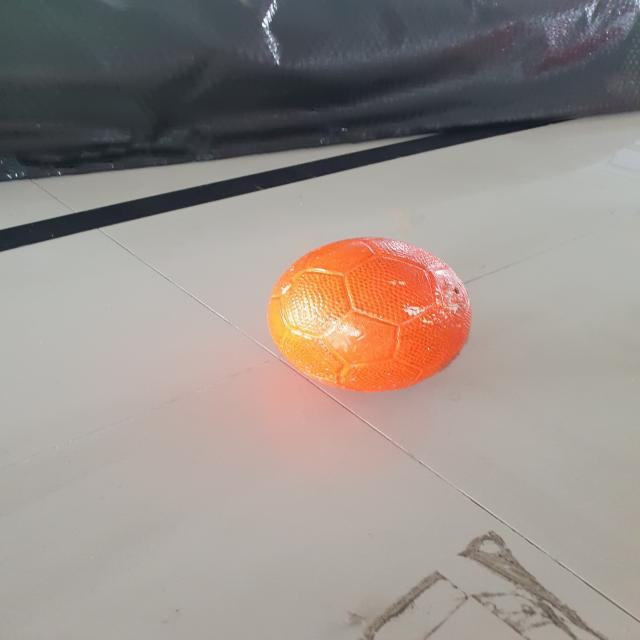bola: (240, 219, 490, 403)
